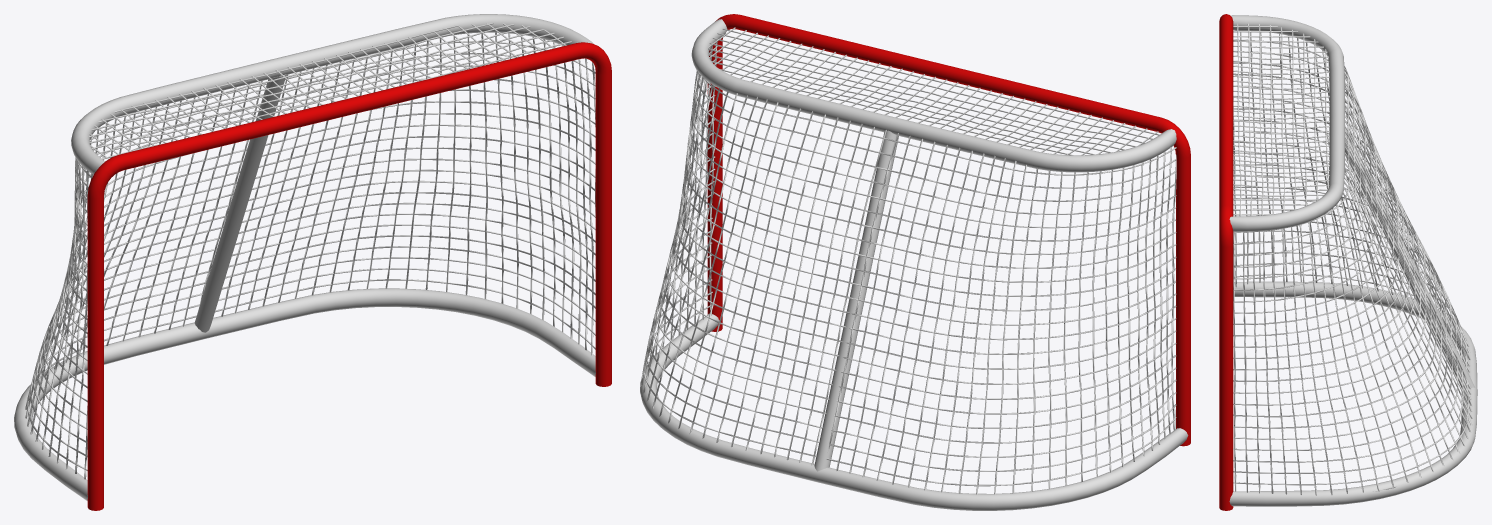
File: UntitledScenegoal.glb
3 views of the same model, side by side, from view 1: azimuth 30°, elevation 25°; view 2: azimuth 150°, elevation 25°; view 3: azimuth 270°, elevation 25° (orthographic). The views are drawn at different scales.
Visible parts, largest first — view 1: Shape002, Rectangle004, Rectangle003, Rectangle002, Line001; view 2: Shape002, Rectangle004, Rectangle003, Rectangle002, Line001; view 3: Shape002, Rectangle003, Rectangle004, Rectangle002, Line001.
Boxes of the visible parts, x1=… form: Shape002: x1=25, y1=22, x2=595, y2=479; Rectangle004: x1=87, y1=42, x2=611, y2=510; Rectangle003: x1=14, y1=288, x2=595, y2=500; Rectangle002: x1=71, y1=14, x2=593, y2=174; Line001: x1=194, y1=74, x2=286, y2=332; Shape002: x1=641, y1=27, x2=1176, y2=494; Rectangle004: x1=707, y1=14, x2=1190, y2=446; Rectangle003: x1=640, y1=313, x2=1188, y2=510; Rectangle002: x1=691, y1=19, x2=1176, y2=172; Line001: x1=814, y1=130, x2=898, y2=471; Shape002: x1=1233, y1=23, x2=1472, y2=495; Rectangle003: x1=1229, y1=281, x2=1477, y2=506; Rectangle004: x1=1219, y1=14, x2=1233, y2=510; Rectangle002: x1=1229, y1=15, x2=1344, y2=231; Line001: x1=1345, y1=125, x2=1475, y2=388.
Bounding box in the file's own units: 1.94 × 1.22 × 0.9789.
